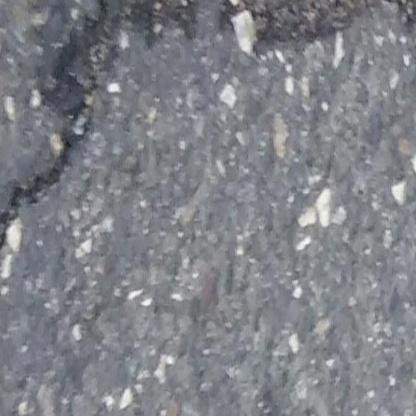Cracks: (0, 0, 416, 271)
